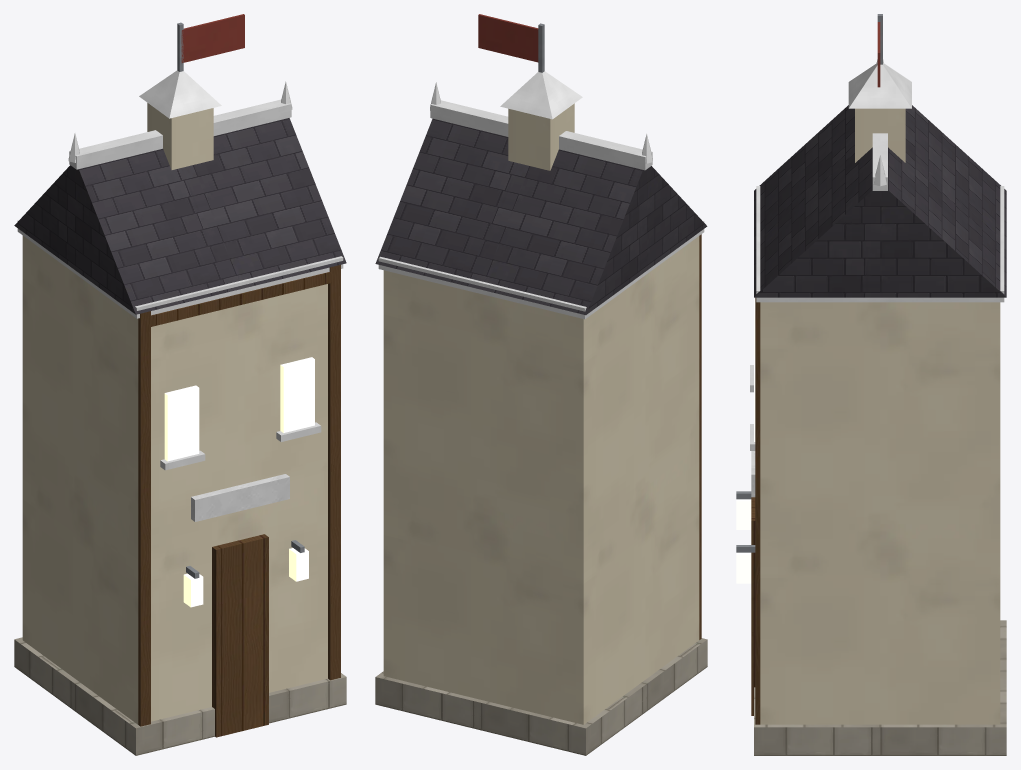
Rendered from category.governance.t6.glb.
3 renders of one model, left to right at view 1: azimuth 30°, elevation 25°; view 2: azimuth 150°, elevation 25°; view 3: azimuth 270°, elevation 25°, orthographic. The views are drawn at different scales.
Parts seen in each view (by area): view 1: building.category.governance.t6; view 2: building.category.governance.t6; view 3: building.category.governance.t6.
Boxes of the visible parts, left/top/right/bottom form: building.category.governance.t6: left=14, top=14, right=346, bottom=755; building.category.governance.t6: left=375, top=14, right=707, bottom=755; building.category.governance.t6: left=736, top=14, right=1006, bottom=755.
Size of the model in its own units: 2.12 by 6 by 2.14.
Materials: 9 (8 with a texture image).
